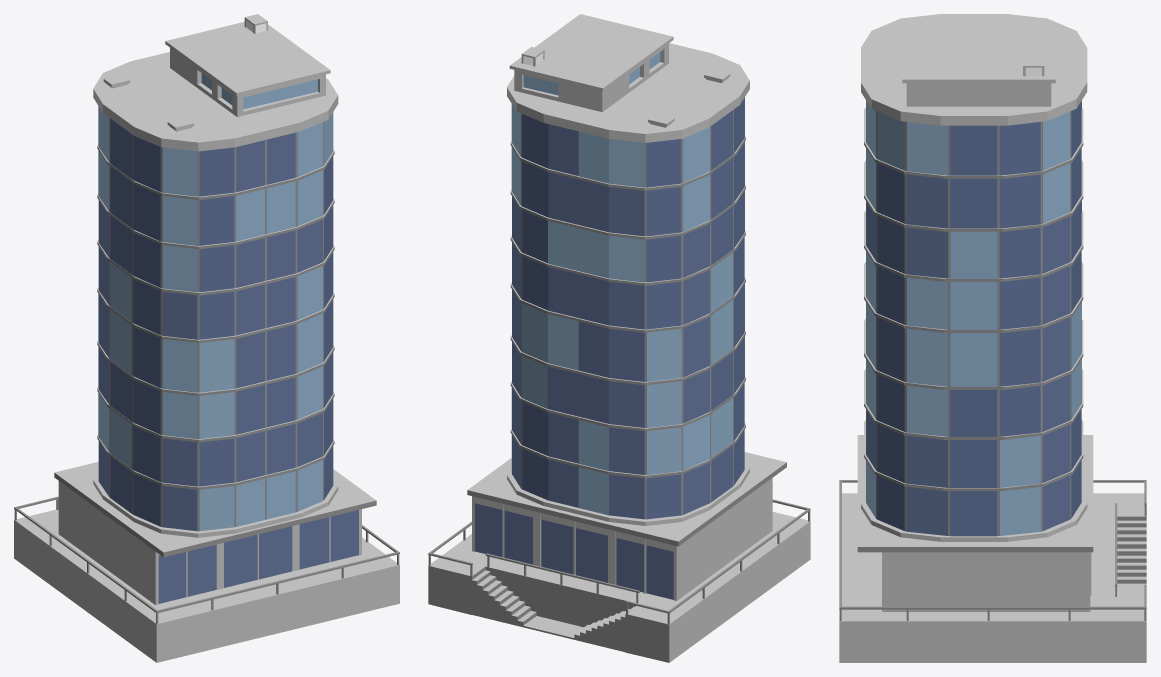
Rendered from building5.glb.
3 renders of one model, left to right at view 1: azimuth 30°, elevation 25°; view 2: azimuth 150°, elevation 25°; view 3: azimuth 270°, elevation 25°, orthographic. The views are drawn at different scales.
Visible parts, largest first — view 1: huitugou_2443_2799; view 2: huitugou_2443_2799; view 3: huitugou_2443_2799.
Boxes of the visible parts, x1,y1,x2,y2 form: huitugou_2443_2799: [14, 14, 399, 662]; huitugou_2443_2799: [428, 14, 810, 662]; huitugou_2443_2799: [839, 14, 1146, 662].
Size of the model in its own units: 5.36 by 11.21 by 5.45.
Materials: 1 (1 with a texture image).
